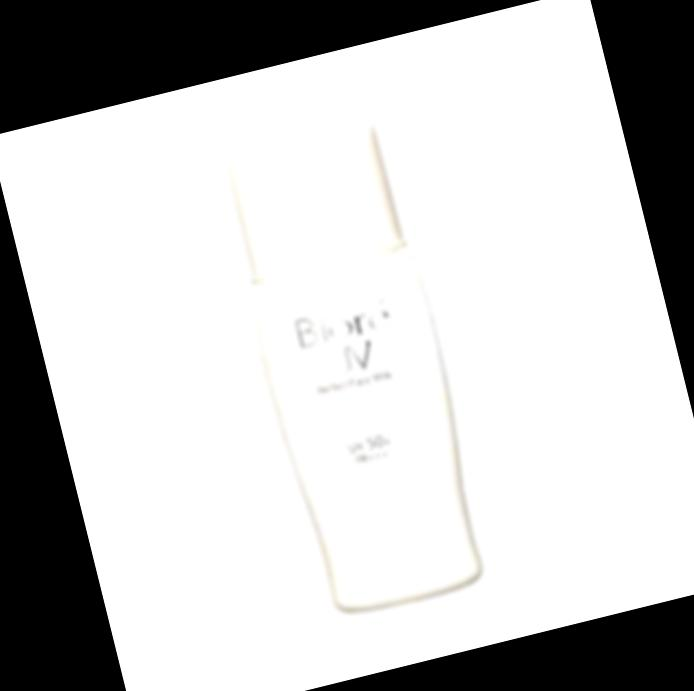cosmetic: (217, 116, 499, 622)
